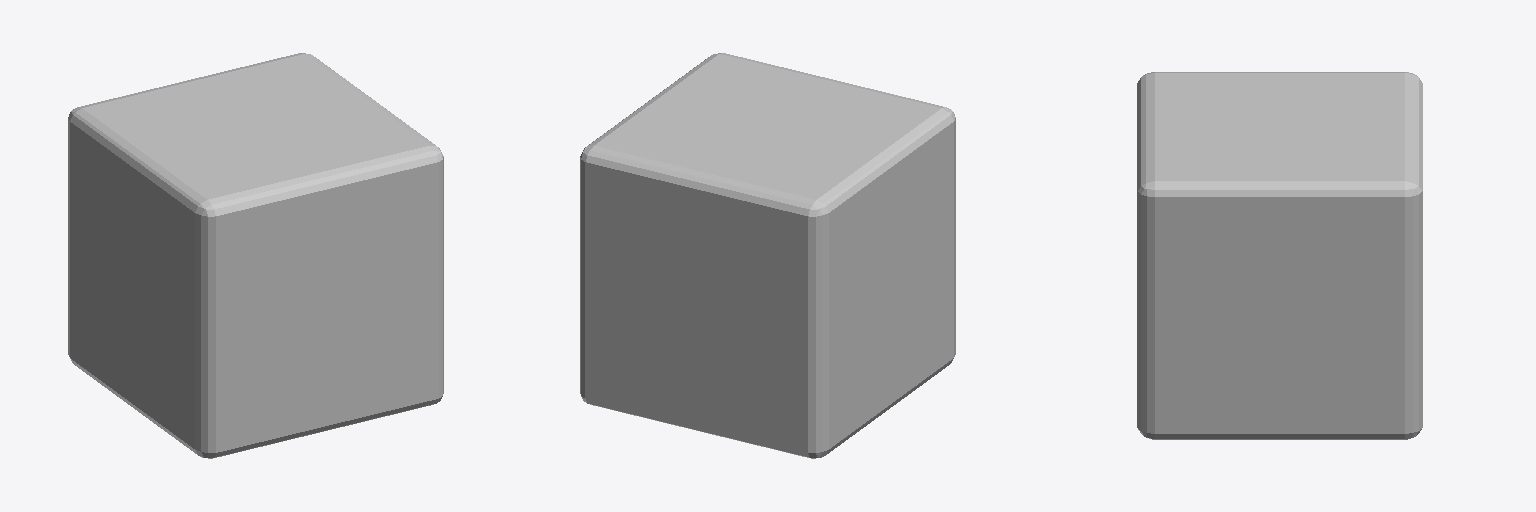
File: cube-highpoly.obj
3 views of the same model, side by side, from view 1: azimuth 30°, elevation 25°; view 2: azimuth 150°, elevation 25°; view 3: azimuth 270°, elevation 25° (orthographic).
Parts seen in each view (by area): view 1: Group58881; view 2: Group58881; view 3: Group58881.
Part boxes in pixels (x1,y1,x2,y2): Group58881: (68, 53, 443, 458); Group58881: (580, 53, 955, 458); Group58881: (1137, 72, 1422, 439).
Bounding box in the file's own units: 0.4 × 0.4 × 0.4.